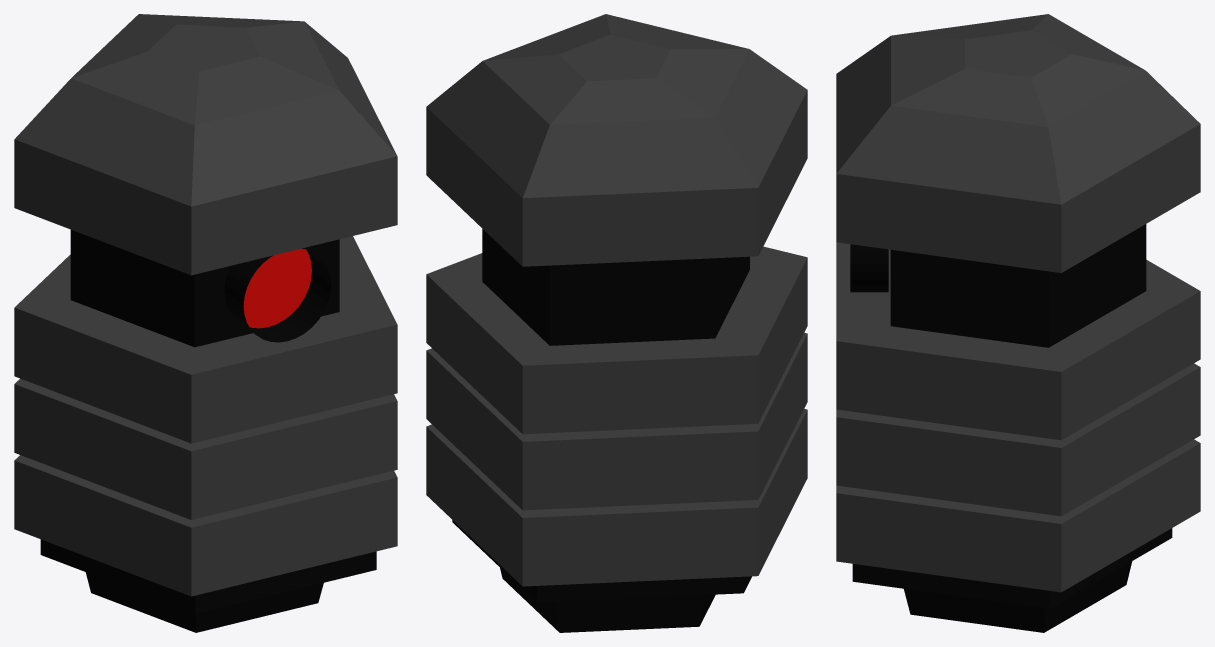
File: FirstMiniboss.glb
3 views of the same model, side by side, from view 1: azimuth 30°, elevation 25°; view 2: azimuth 150°, elevation 25°; view 3: azimuth 270°, elevation 25° (orthographic).
Visible parts, largest first — view 1: Top, BodySpinner1, BodySpinner3, BodySpinner2, InnerBody, BladeSpinner; view 2: Top, BodySpinner1, BodySpinner2, BodySpinner3, InnerBody, BladeSpinner; view 3: Top, BodySpinner1, BodySpinner3, BodySpinner2, InnerBody, BladeSpinner.
Part boxes in pixels (<box>): Top: <box>14,14,397,275</box>; BodySpinner1: <box>14,236,397,443</box>; BodySpinner3: <box>14,455,397,596</box>; BodySpinner2: <box>14,378,397,519</box>; InnerBody: <box>70,229,339,632</box>; BladeSpinner: <box>40,539,376,613</box>; Top: <box>426,14,807,266</box>; BodySpinner1: <box>426,246,807,434</box>; BodySpinner2: <box>426,332,807,510</box>; BodySpinner3: <box>426,409,807,586</box>; InnerBody: <box>482,229,749,632</box>; BladeSpinner: <box>452,520,751,602</box>; Top: <box>836,14,1200,272</box>; BodySpinner1: <box>836,242,1200,440</box>; BodySpinner3: <box>836,439,1200,592</box>; BodySpinner2: <box>836,363,1200,516</box>; InnerBody: <box>850,224,1146,632</box>; BladeSpinner: <box>852,528,1172,608</box>.
Size of the model in its own units: 4.57 by 6.98 by 4.34.
